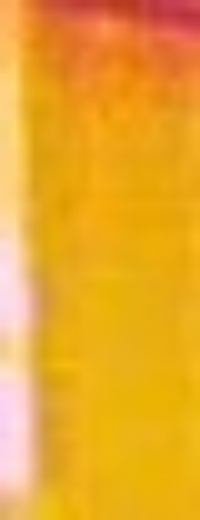Diode: (1, 69, 47, 505)
